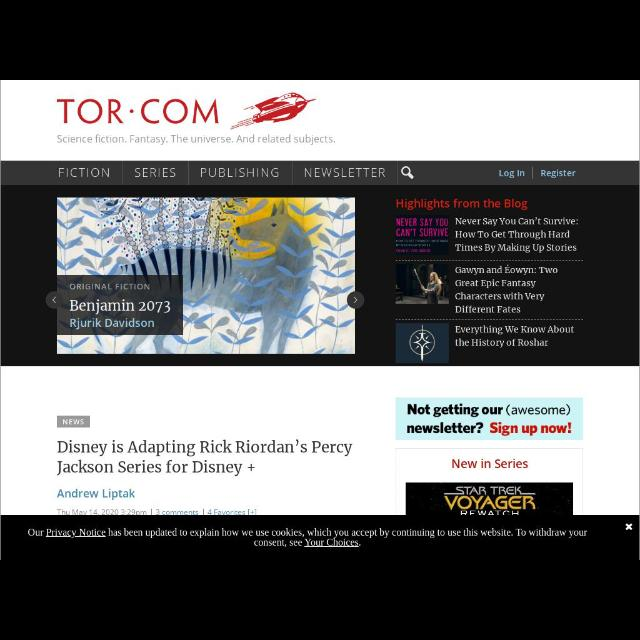icon: (400, 167, 416, 179)
image: (57, 198, 356, 354), (55, 92, 318, 130), (394, 398, 584, 440), (406, 483, 572, 517), (396, 324, 448, 364), (396, 266, 450, 304)
multitab: (59, 167, 578, 179)
text: (28, 528, 588, 548), (58, 440, 352, 478), (455, 266, 559, 314), (456, 217, 578, 253), (56, 134, 336, 146), (455, 326, 575, 348), (396, 199, 528, 211), (56, 508, 258, 514), (304, 167, 386, 179), (200, 166, 280, 178), (56, 489, 136, 501), (452, 459, 528, 469), (58, 167, 110, 179), (134, 167, 176, 180), (540, 168, 576, 178), (498, 167, 526, 179), (62, 418, 84, 426), (624, 522, 634, 530)
